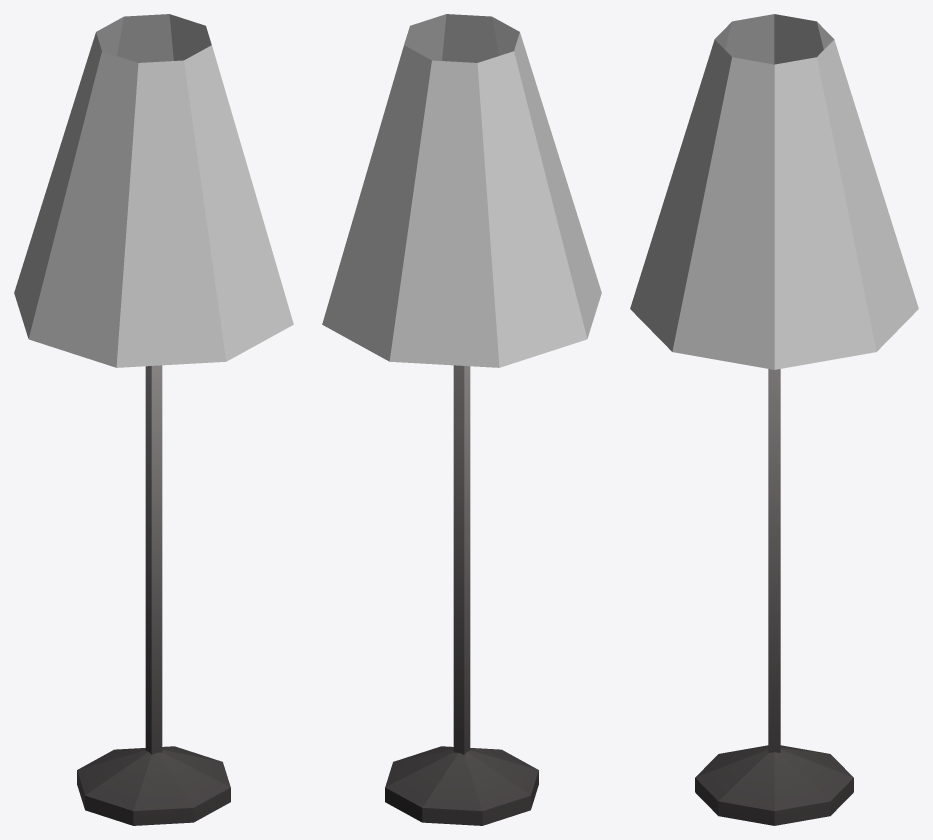
The model's file is Lamp_008.fbx.
The picture shows the model from 3 angles, left to right: view 1: azimuth 30°, elevation 25°; view 2: azimuth 150°, elevation 25°; view 3: azimuth 270°, elevation 25°; orthographic projection.
Parts seen in each view (by area): view 1: Lamp_008; view 2: Lamp_008; view 3: Lamp_008.
Boxes of the visible parts, bbox=[...] form: Lamp_008: bbox=[14, 14, 293, 825]; Lamp_008: bbox=[322, 14, 601, 825]; Lamp_008: bbox=[630, 14, 918, 825].
Bounding box in the file's own units: 54.41 × 157 × 54.41.
